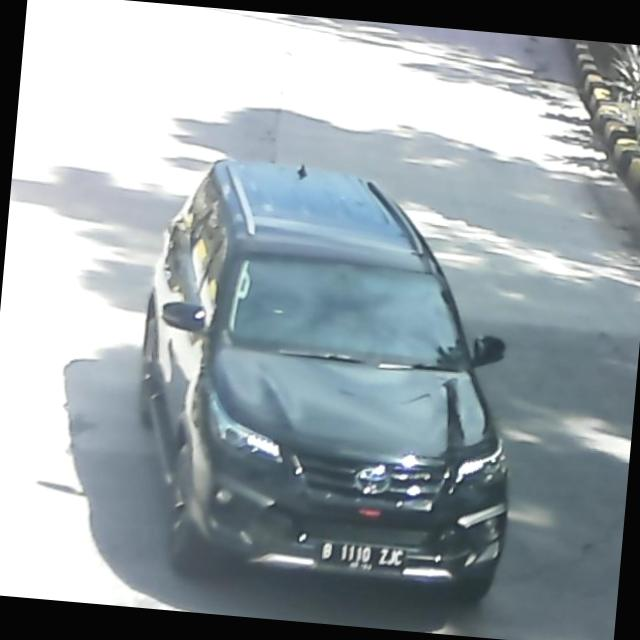plate: (310, 538, 413, 579)
